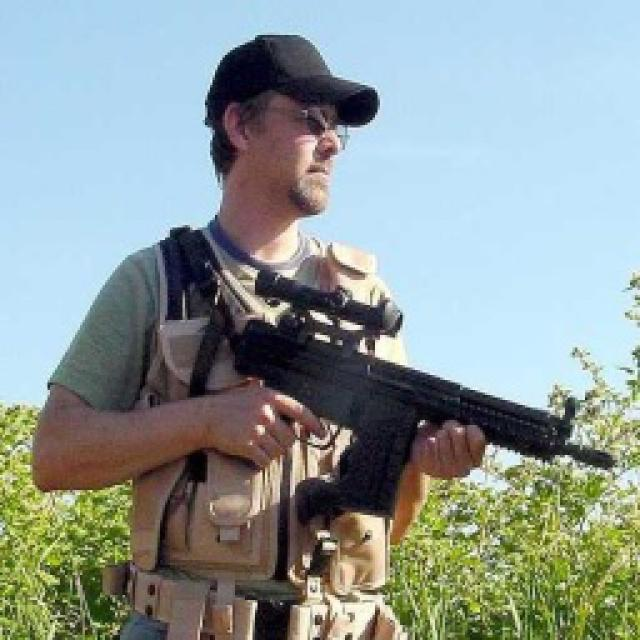long weapon: (189, 262, 603, 528)
